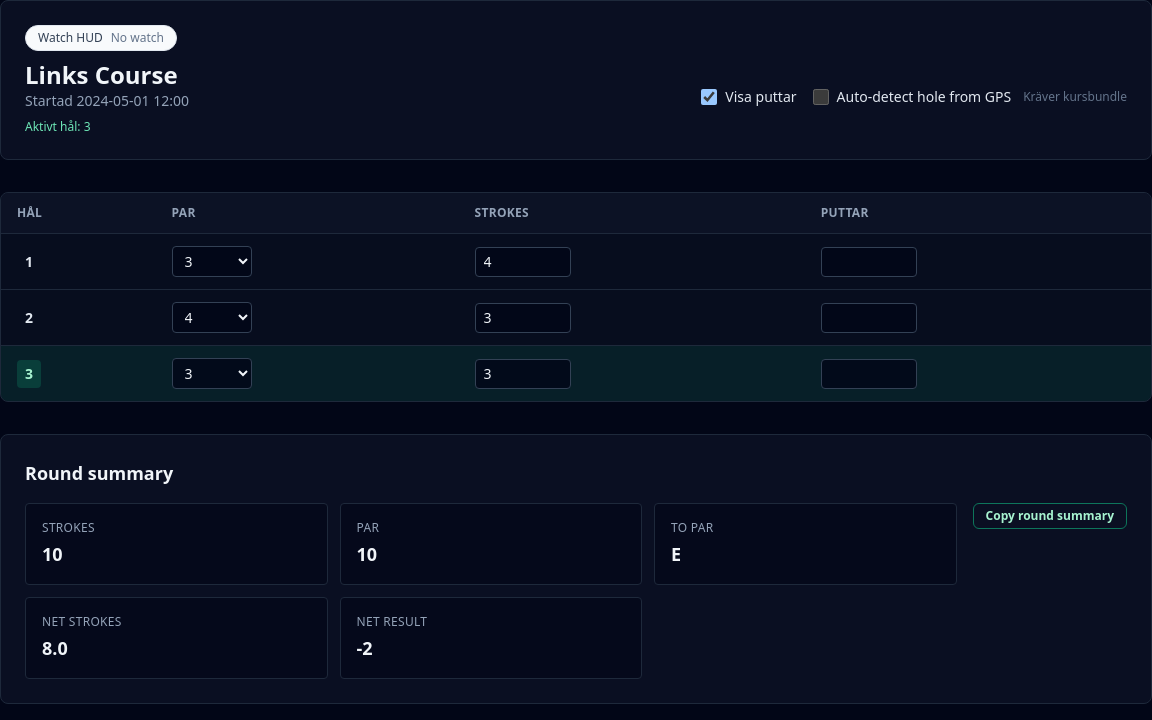
Scenario: QuickRoundPlayPage share summary › copies the round summary to the clipboard
Click the button "Copy round summary": {"x": 1050, "y": 516} [973,503,1127,529]
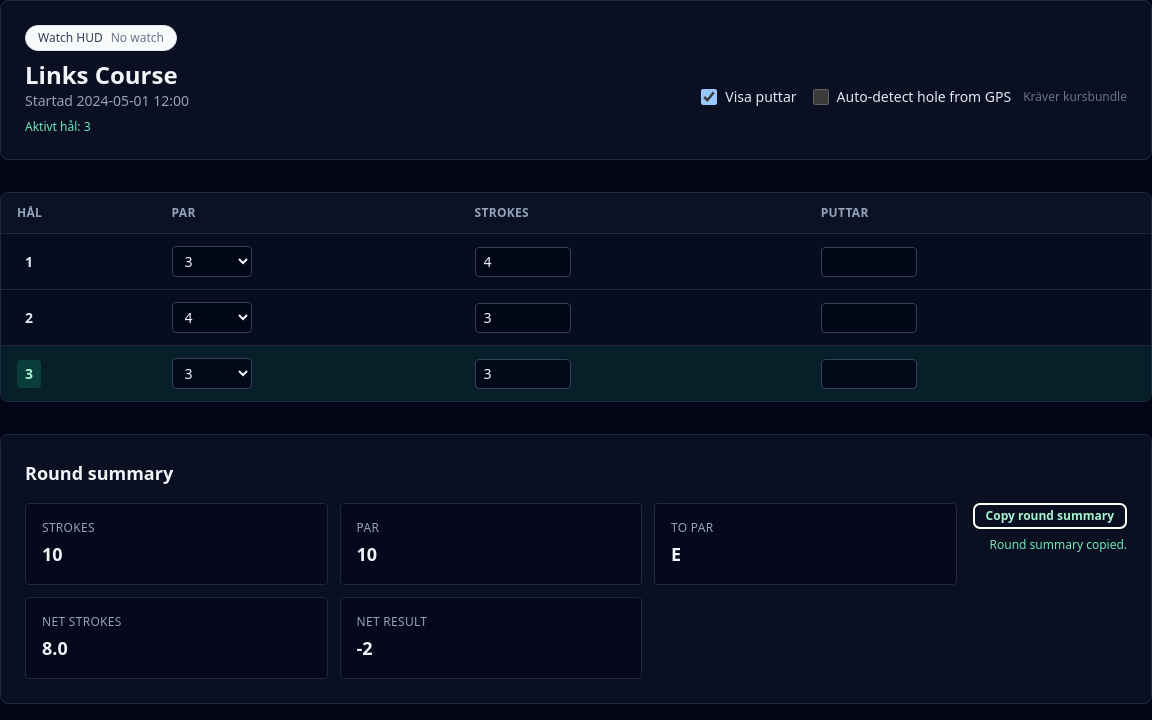
Check: the text "Round summary copied." is shown, box [990,537,1127,553]
